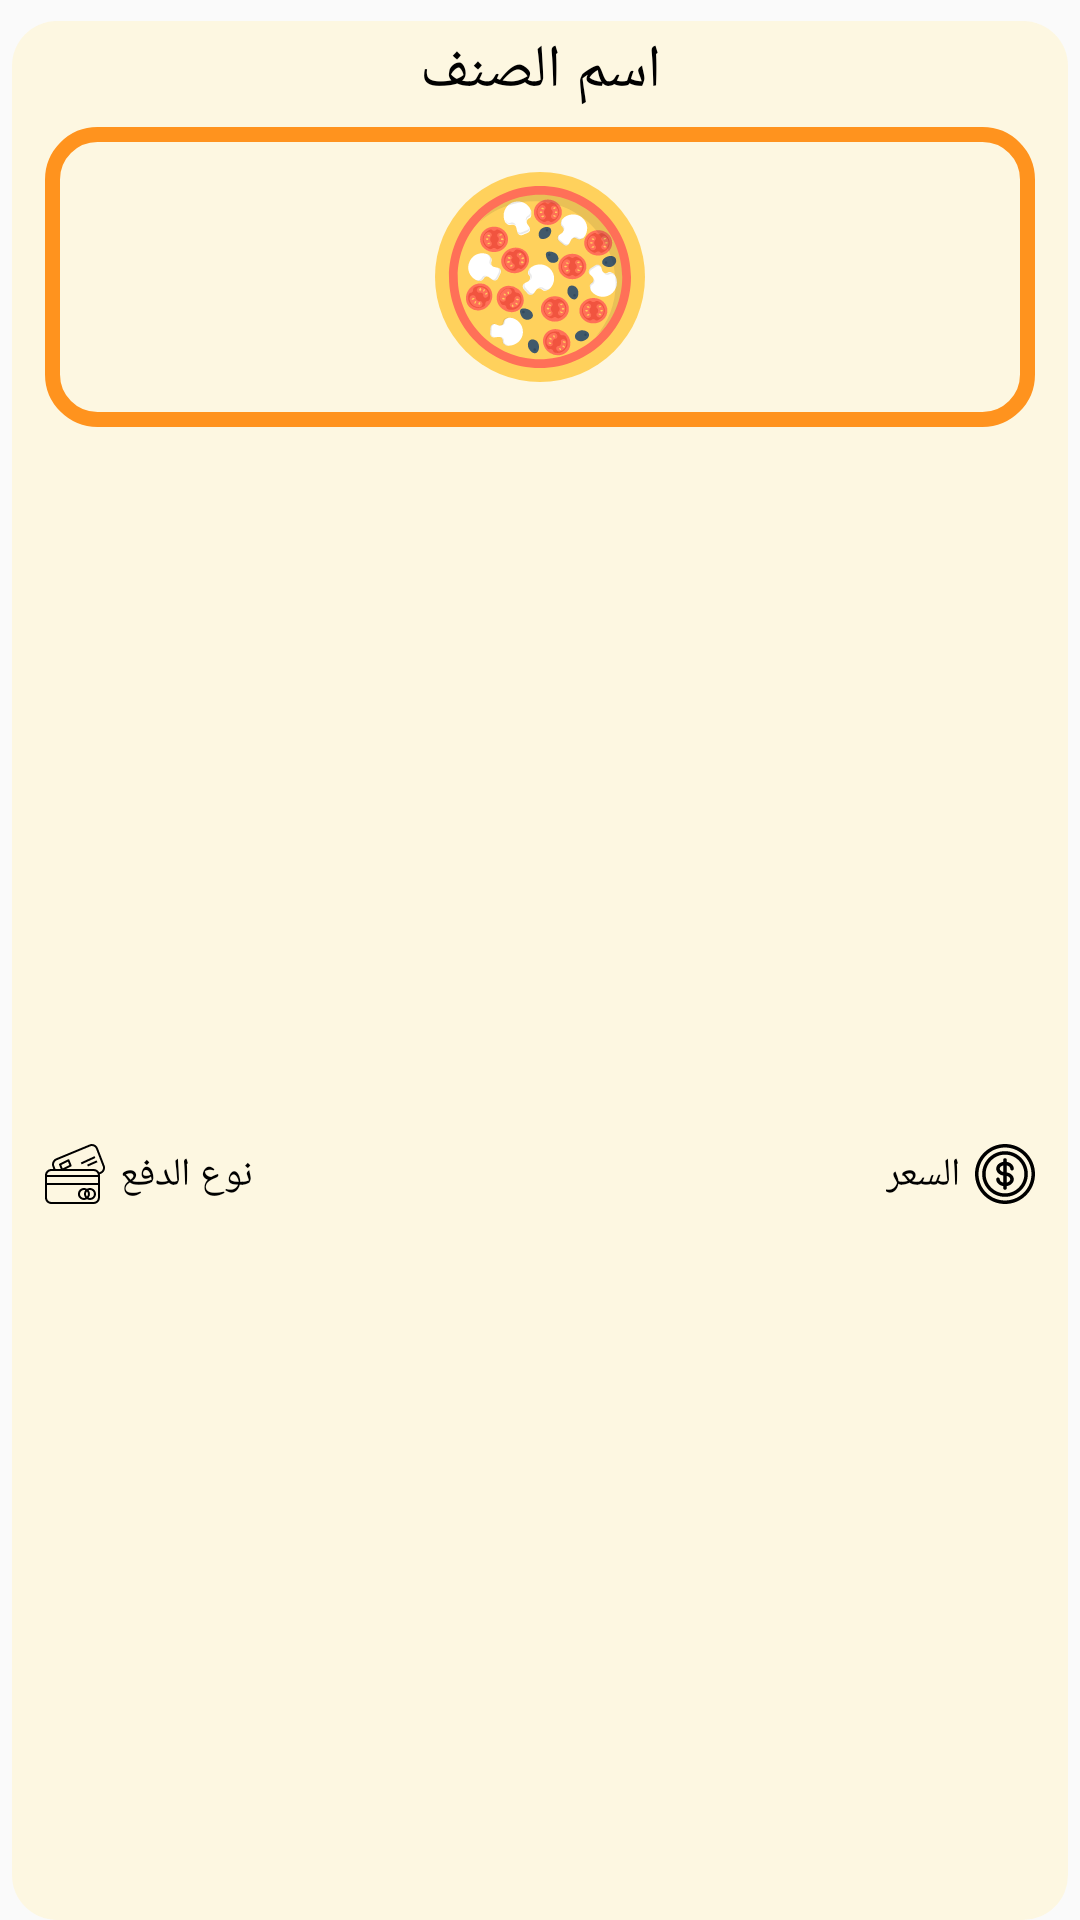

Screen size 1080*1920. Icon name, then its box in pixels as (x1, y1, x2, y2):
credit card: (45, 1144, 105, 1204)
money: (975, 1144, 1035, 1204)
